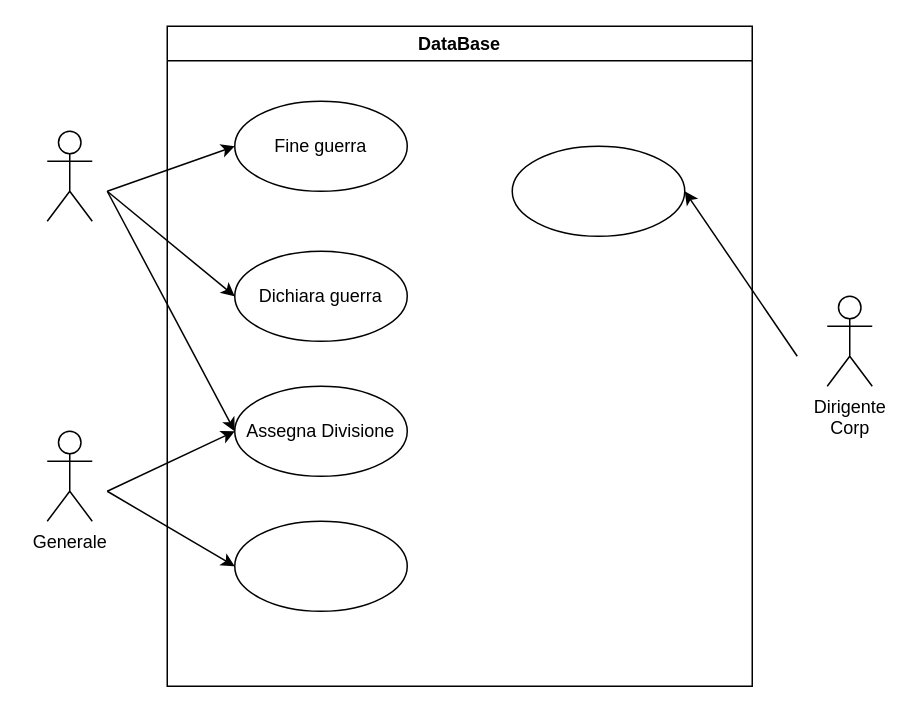
Some shapes in this 912 by 713 pixel diagram are drawn without their labels. Here are the shapes that lost their labels. From the top down, the centre of each, then its label:
At (x=69, y=175): "Imperatore".
At (x=598, y=190): "Finanzia guerra".
At (x=320, y=565): "Rinforza Divisione".
